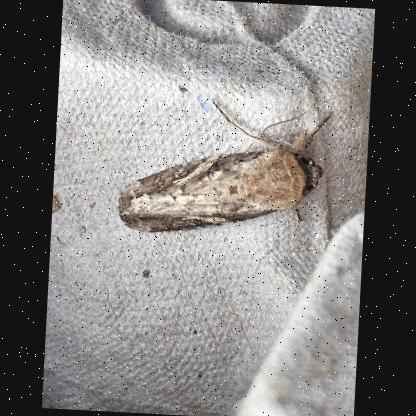Fall Armyworm Moth: (113, 92, 335, 246)
